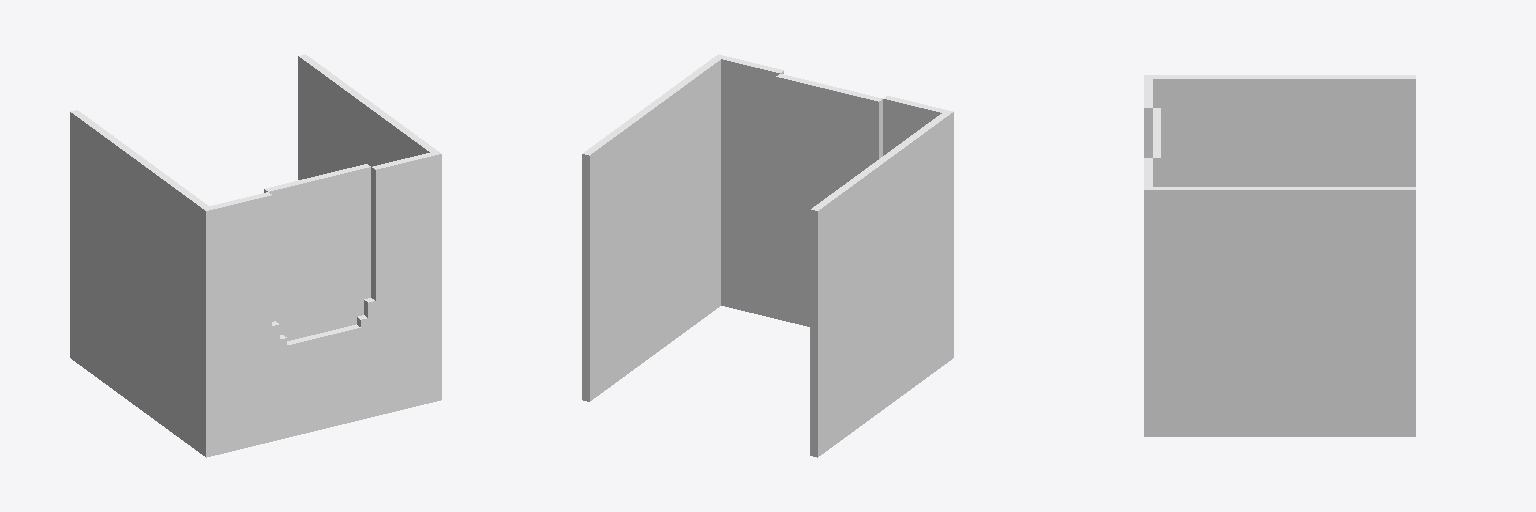
The picture shows the model from 3 angles: view 1: azimuth 30°, elevation 25°; view 2: azimuth 150°, elevation 25°; view 3: azimuth 270°, elevation 25°; orthographic projection.
Visible parts, largest first — view 1: test-47; view 2: test-47; view 3: test-47.
Part boxes in pixels (bbox=[...]): test-47: bbox=[70, 54, 441, 457]; test-47: bbox=[582, 54, 953, 457]; test-47: bbox=[1144, 75, 1415, 436].
Size of the model in its own units: 32 by 32 by 32.